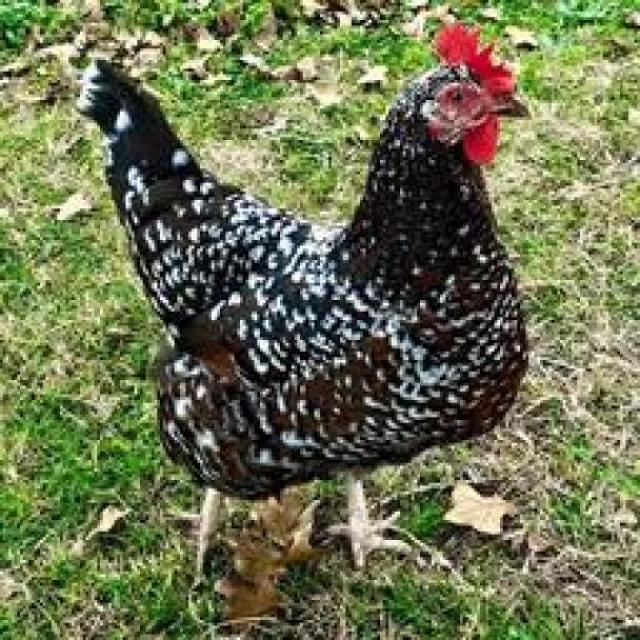Chicken: (39, 22, 541, 606)
